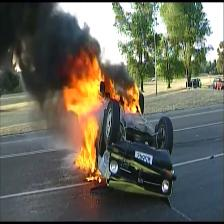fire: (51, 38, 175, 188)
smoke: (0, 0, 70, 124), (72, 7, 159, 102)
